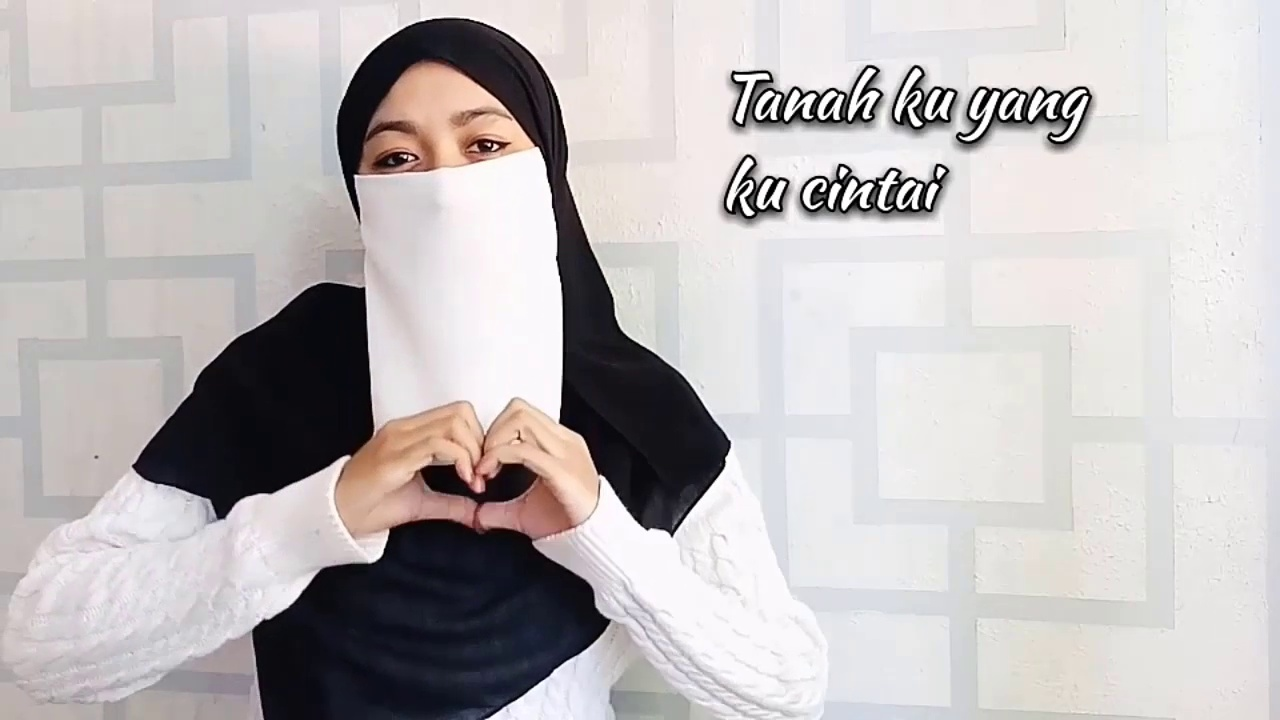CINTA: (325, 394, 643, 559)
